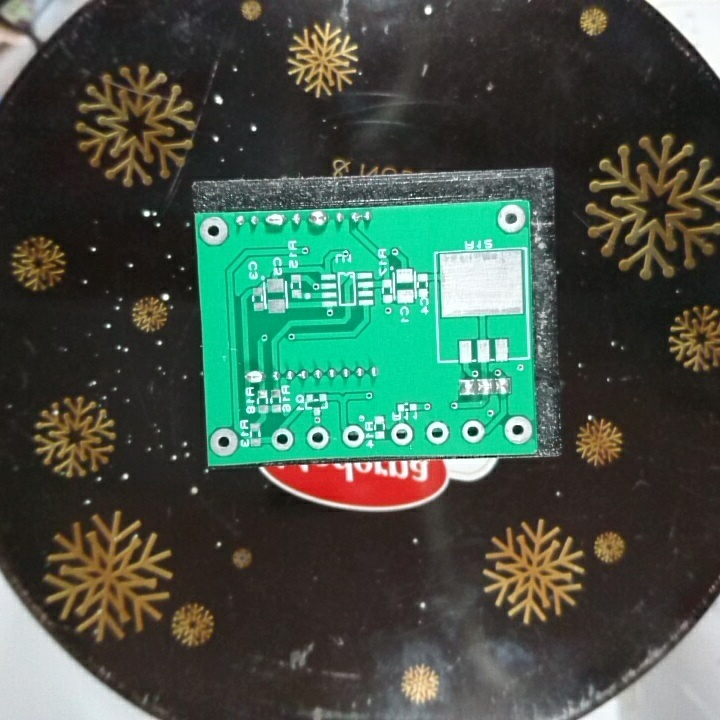F: (494, 201, 526, 240), (502, 415, 533, 446), (209, 426, 239, 458), (199, 215, 229, 246), (458, 419, 487, 446), (389, 420, 416, 448), (305, 424, 331, 452), (424, 420, 451, 445), (339, 423, 364, 449), (269, 426, 294, 451)
P: (305, 209, 331, 231), (262, 212, 288, 230), (242, 367, 267, 384)
